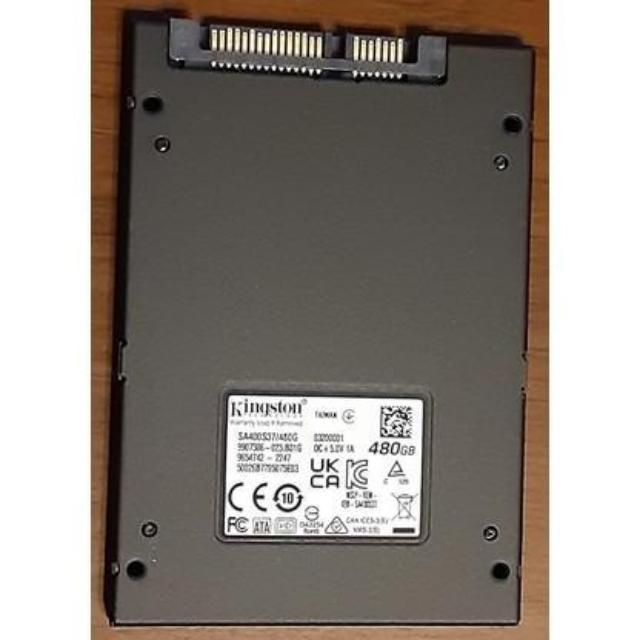DISK: (102, 13, 534, 635)
